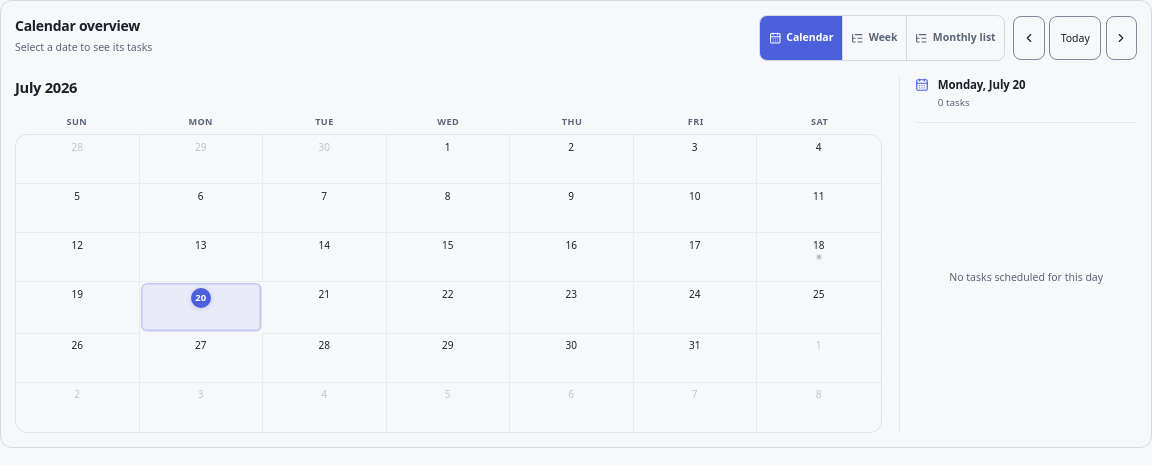
Test: SummaryCalendar › shows a completed task without a deadline on the day it was finished
Click the cell with test id "summary-calendar-day-2026-07-18": click(819, 257) [757,233,880,282]
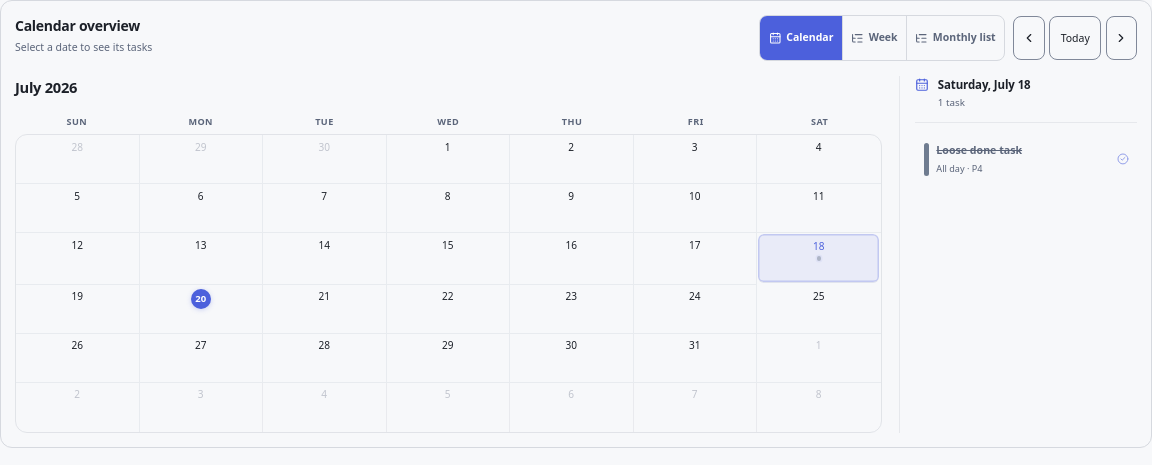
Check: the list with test id "summary-day-tasks" shows "Loose done task", box [915,135,1137,184]
